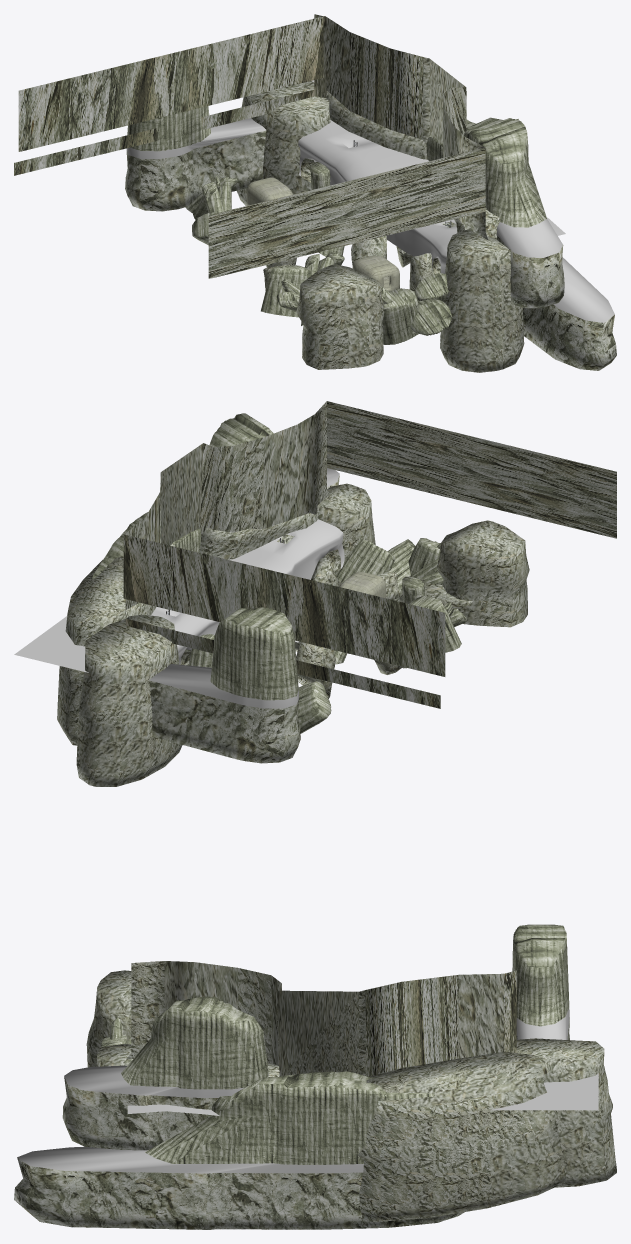
File: SM_Level_PlageTymoes_Rocks00.fbx
3 renders of one model, top to bottom at view 1: azimuth 30°, elevation 25°; view 2: azimuth 150°, elevation 25°; view 3: azimuth 270°, elevation 25°, orthographic. The views are drawn at different scales.
Visible parts, largest first — view 1: SM_Level_PlageTymoes_Rocks00, SM_Level_PlageTymoes_Rocks00.001, SM_Level_PlageTymoes_Buildings01.001; view 2: SM_Level_PlageTymoes_Rocks00, SM_Level_PlageTymoes_Rocks00.001, SM_Level_PlageTymoes_Buildings01.001; view 3: SM_Level_PlageTymoes_Rocks00, SM_Level_PlageTymoes_Rocks00.001.
Part boxes in pixels (left/top/right/bottom): SM_Level_PlageTymoes_Rocks00: left=125, top=80, right=616, bottom=372; SM_Level_PlageTymoes_Rocks00.001: left=14, top=14, right=488, bottom=278; SM_Level_PlageTymoes_Buildings01.001: left=247, top=177, right=399, bottom=291; SM_Level_PlageTymoes_Rocks00: left=14, top=413, right=529, bottom=786; SM_Level_PlageTymoes_Rocks00.001: left=123, top=401, right=616, bottom=708; SM_Level_PlageTymoes_Buildings01.001: left=295, top=572, right=385, bottom=642; SM_Level_PlageTymoes_Rocks00: left=14, top=924, right=616, bottom=1229; SM_Level_PlageTymoes_Rocks00.001: left=126, top=961, right=516, bottom=1076.
Size of the model in its own units: 11095 by 5609 by 13987.
